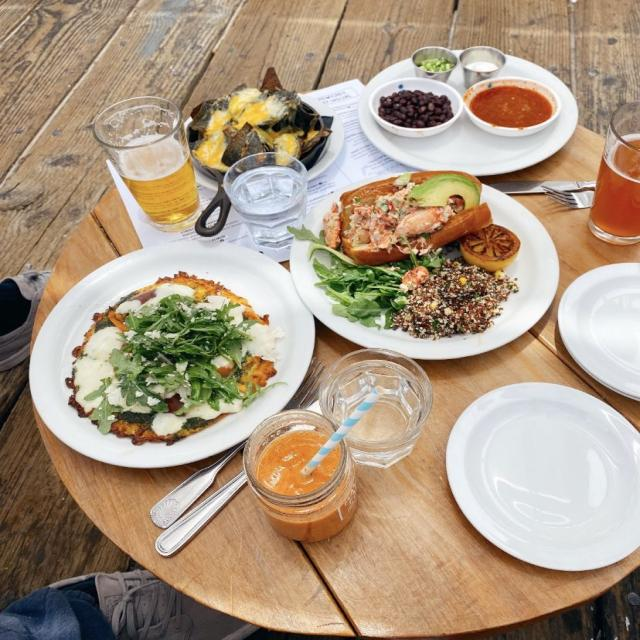ca phe: (240, 408, 369, 550)
sandwich tom hum: (302, 171, 560, 353)
trung chien: (58, 254, 292, 459)
